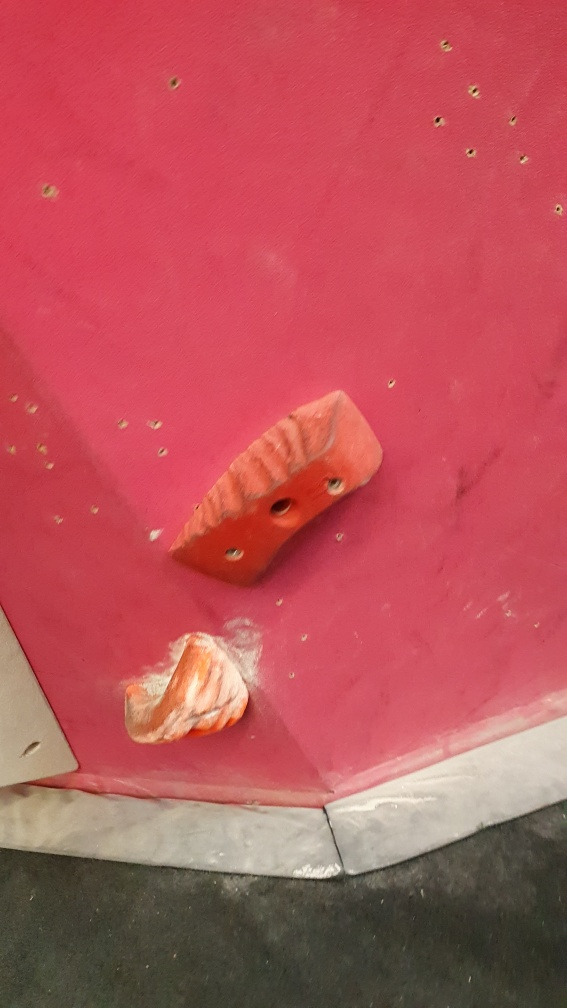Jug: (118, 632, 255, 741)
